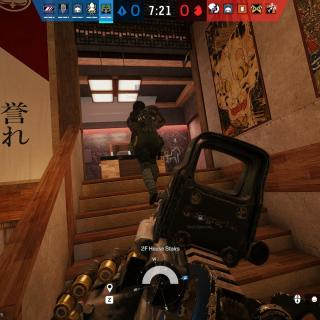Character: (126, 100, 166, 207)
Friend_label: (187, 214, 214, 230), (126, 84, 150, 99), (169, 138, 180, 148)
Head: (132, 100, 146, 109)
